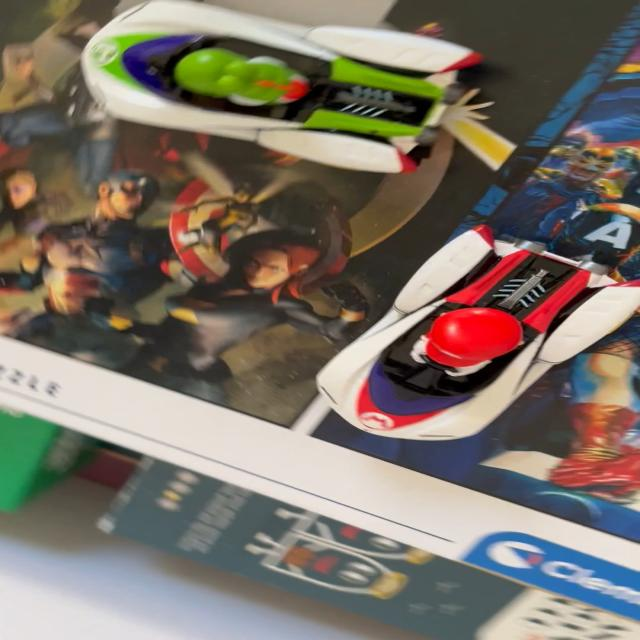mario: (291, 213, 638, 449)
yoshi: (54, 0, 526, 190)
